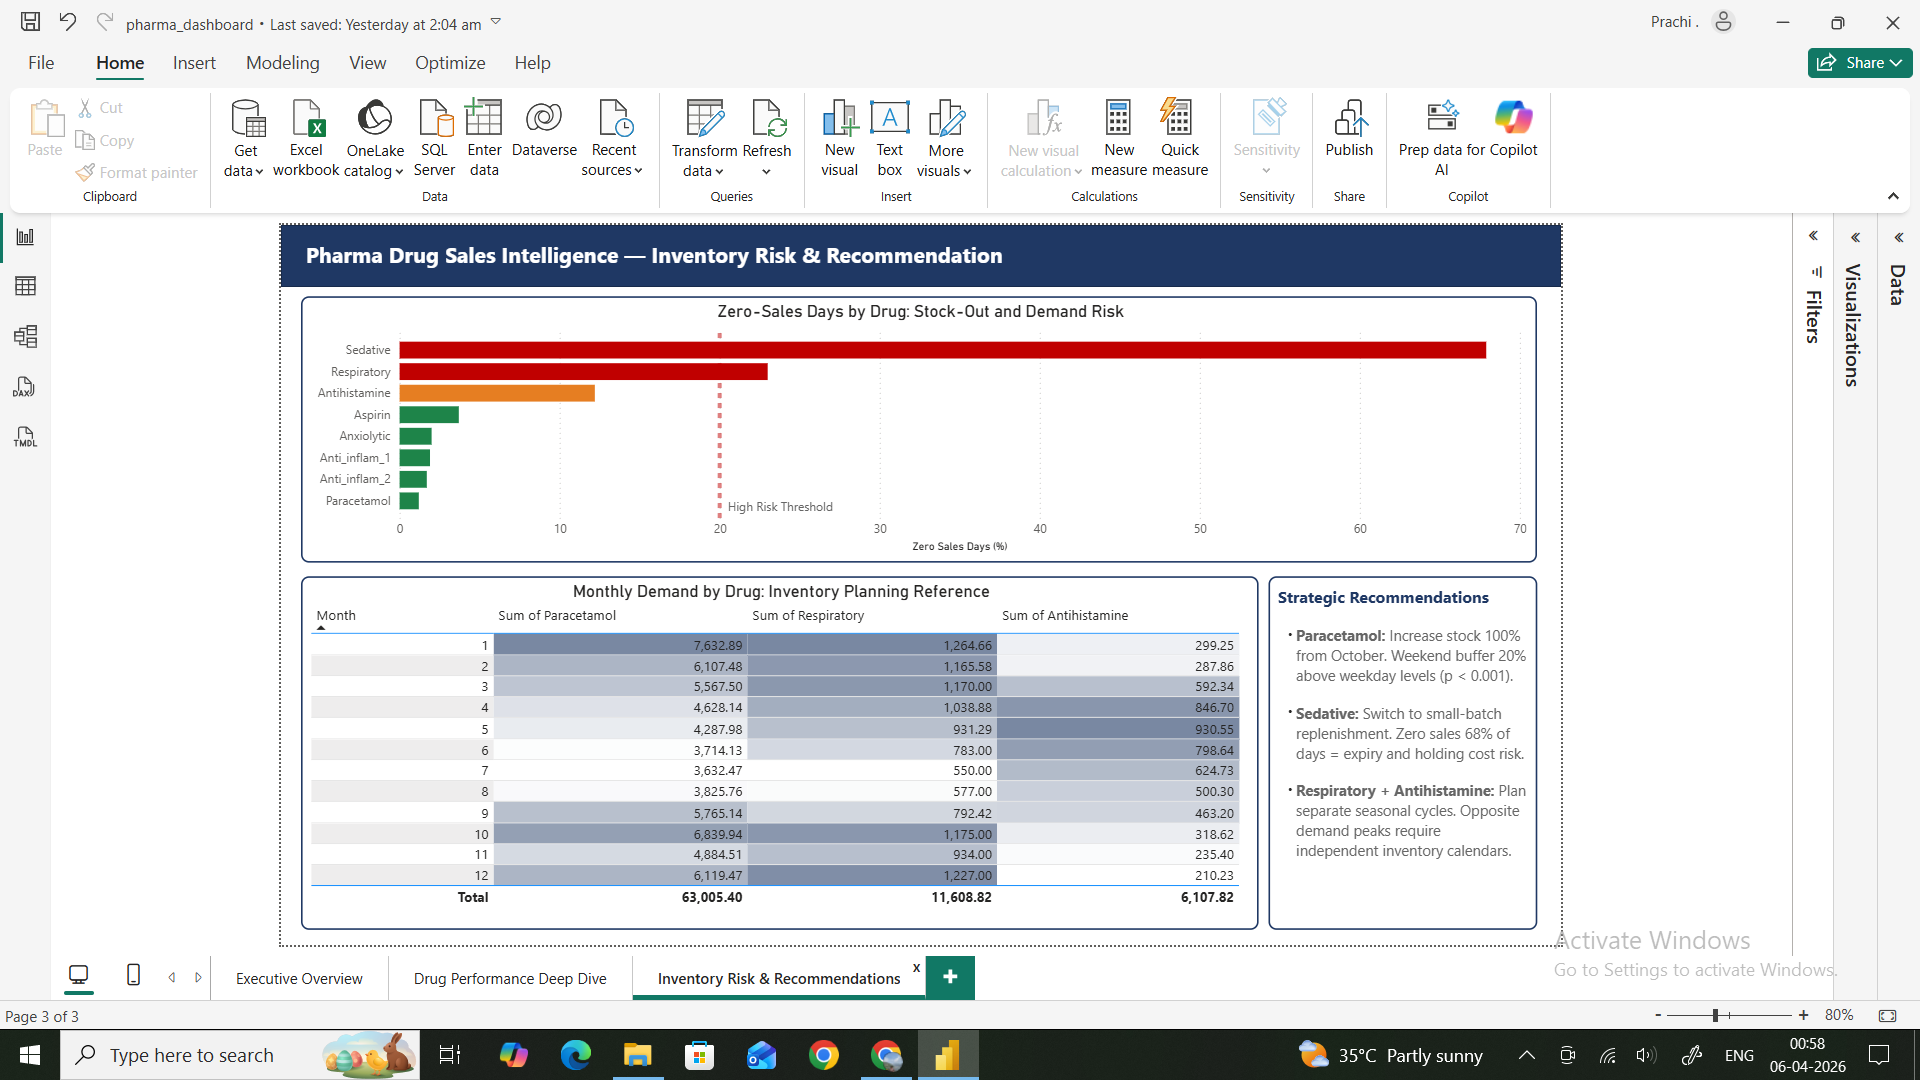

The page's visual inventory and layout, read from the dashboard file:
{"tool":"powerbi","page":{"name":"Inventory Risk & Recommendations","canvas":[1280,720],"ordinal":2},"visuals":[{"type":"shape","box":[0,0,1280,62],"z":0},{"type":"textbox","box":[20,10,1236.2,40],"z":1000},{"type":"clusteredBarChart","title":"Zero-Sales Days by Drug: Stock-Out and Demand Risk","fields":{"Category":["drug_profile.drug_name"],"Y":["Sum(drug_profile.zero_pct)"]},"box":[20,71.2,1236.2,266.2],"z":2000},{"type":"tableEx","title":"Monthly Demand by Drug: Inventory Planning Reference","fields":{"Values":["monthly_sales.Month","Sum(monthly_sales.Paracetamol)","Sum(monthly_sales.Respiratory)","Sum(monthly_sales.Antihistamine)"]},"box":[20,351.2,957.5,353.8],"z":3000},{"type":"textbox","box":[987.5,351.2,268.8,353.8],"z":4000}]}

Visuals, with their boxes on the page's 1280x720 design canvas (x1, y1, x2, y2). These are canvas units, not pixel positions in the 1920x1080 screenshot, which may show the page scaled, cropped or inside an application window:
shape: (0,0,1280,62)
textbox: (20,10,1256,50)
"Zero-Sales Days by Drug: Stock-Out and Demand Risk" clusteredBarChart: (20,71,1256,337)
"Monthly Demand by Drug: Inventory Planning Reference" tableEx: (20,351,978,705)
textbox: (988,351,1256,705)
